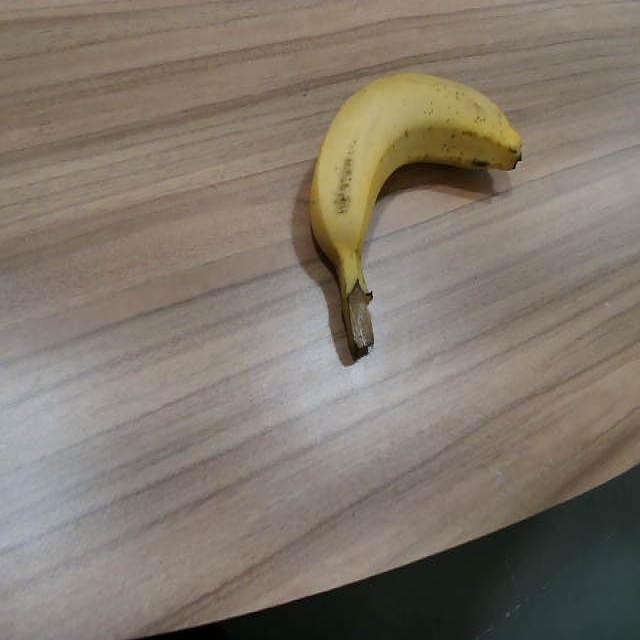Ripe: (296, 54, 536, 360)
